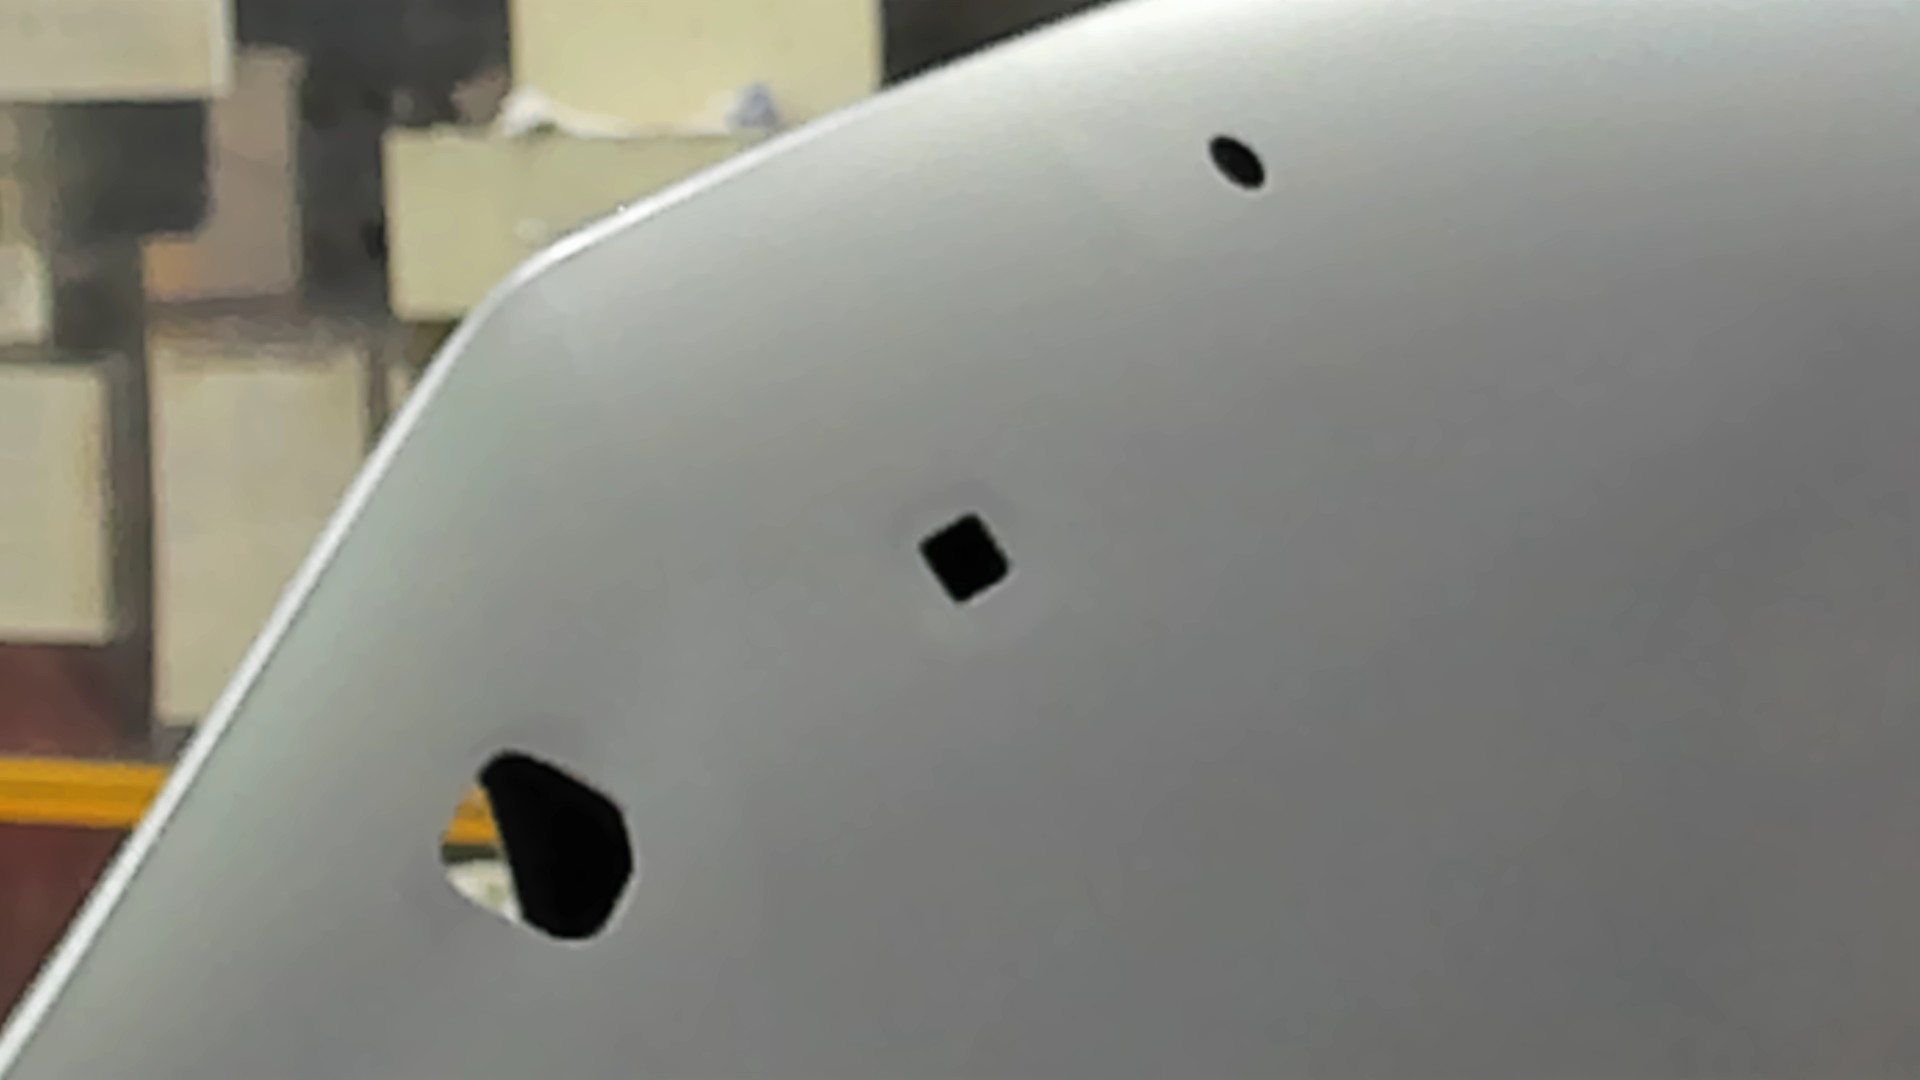chico: (1207, 131, 1274, 196)
grande: (429, 742, 644, 953)
mediano: (910, 510, 1019, 613)
